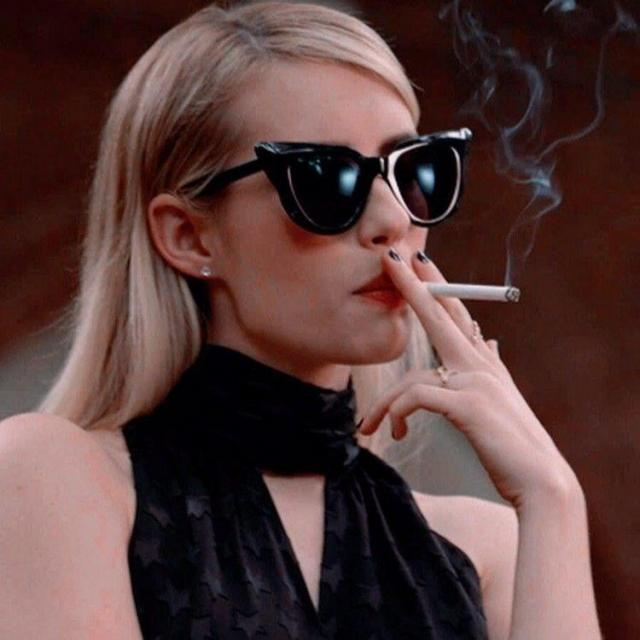cigarette: (380, 238, 574, 310)
